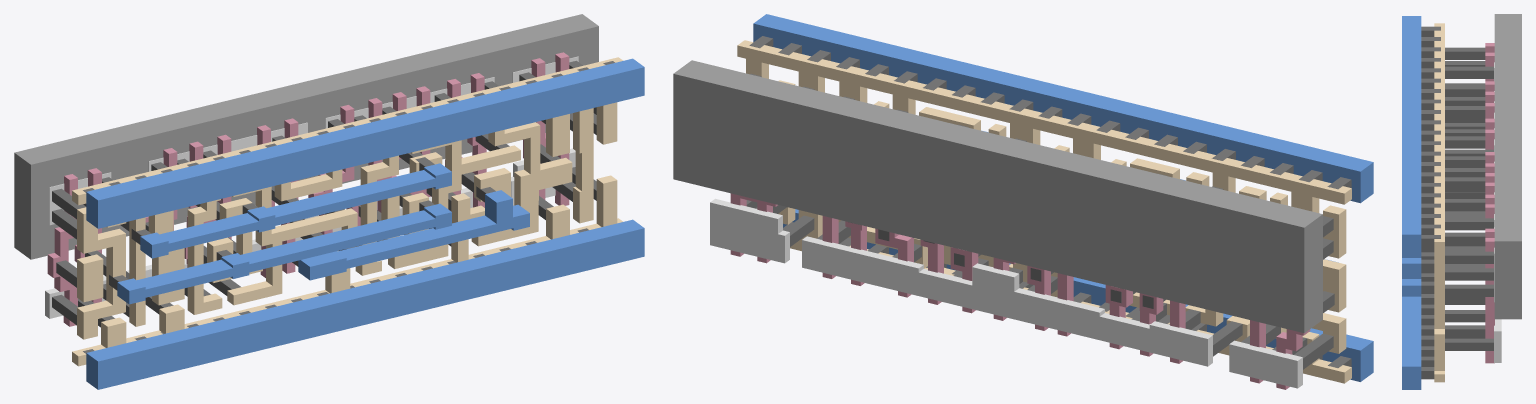
The model's file is sky130_fd_sc_hd__dfrtp_2.gds.gltf.
3 views of the same model, side by side, from view 1: azimuth 30°, elevation 25°; view 2: azimuth 150°, elevation 25°; view 3: azimuth 270°, elevation 25° (orthographic). The views are drawn at different scales.
Visible parts, largest first — view 1: sky130_fd_sc_hd__dfrtp_2_met1, sky130_fd_sc_hd__dfrtp_2_li1, sky130_fd_sc_hd__dfrtp_2_nwell, sky130_fd_sc_hd__dfrtp_2_poly, sky130_fd_sc_hd__dfrtp_2_licon, sky130_fd_sc_hd__dfrtp_2_diff, sky130_fd_sc_hd__dfrtp_2_mcon; view 2: sky130_fd_sc_hd__dfrtp_2_nwell, sky130_fd_sc_hd__dfrtp_2_li1, sky130_fd_sc_hd__dfrtp_2_diff, sky130_fd_sc_hd__dfrtp_2_met1, sky130_fd_sc_hd__dfrtp_2_poly, sky130_fd_sc_hd__dfrtp_2_mcon, sky130_fd_sc_hd__dfrtp_2_licon; view 3: sky130_fd_sc_hd__dfrtp_2_licon, sky130_fd_sc_hd__dfrtp_2_nwell, sky130_fd_sc_hd__dfrtp_2_met1, sky130_fd_sc_hd__dfrtp_2_mcon, sky130_fd_sc_hd__dfrtp_2_li1, sky130_fd_sc_hd__dfrtp_2_poly, sky130_fd_sc_hd__dfrtp_2_diff.
Boxes of the visible parts, x1,y1,x2,y2 form: sky130_fd_sc_hd__dfrtp_2_met1: (86,58,644,389); sky130_fd_sc_hd__dfrtp_2_li1: (72,57,622,366); sky130_fd_sc_hd__dfrtp_2_nwell: (14,14,598,259); sky130_fd_sc_hd__dfrtp_2_poly: (47,52,569,326); sky130_fd_sc_hd__dfrtp_2_licon: (52,60,596,327); sky130_fd_sc_hd__dfrtp_2_diff: (45,56,578,318); sky130_fd_sc_hd__dfrtp_2_mcon: (83,61,614,353); sky130_fd_sc_hd__dfrtp_2_nwell: (673,60,1322,333); sky130_fd_sc_hd__dfrtp_2_li1: (737,40,1351,383); sky130_fd_sc_hd__dfrtp_2_diff: (710,198,1302,388); sky130_fd_sc_hd__dfrtp_2_met1: (753,14,1373,381); sky130_fd_sc_hd__dfrtp_2_poly: (730,193,1310,389); sky130_fd_sc_hd__dfrtp_2_mcon: (749,36,1351,367); sky130_fd_sc_hd__dfrtp_2_licon: (746,73,1334,369); sky130_fd_sc_hd__dfrtp_2_licon: (1445,47,1493,350); sky130_fd_sc_hd__dfrtp_2_nwell: (1494,14,1521,319); sky130_fd_sc_hd__dfrtp_2_met1: (1402,16,1421,389); sky130_fd_sc_hd__dfrtp_2_mcon: (1421,26,1440,379); sky130_fd_sc_hd__dfrtp_2_li1: (1434,23,1444,382); sky130_fd_sc_hd__dfrtp_2_poly: (1485,43,1494,363); sky130_fd_sc_hd__dfrtp_2_diff: (1494,62,1501,362).
Bounding box in the file's own units: 10.04 × 3.2 × 2.24.
